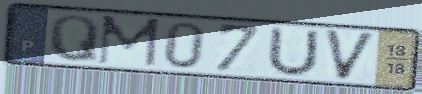0: (161, 21, 207, 70)
7: (216, 22, 265, 75)
M: (94, 14, 163, 69)
Q: (46, 13, 101, 65)
U: (263, 24, 322, 79)
V: (321, 27, 379, 83)
